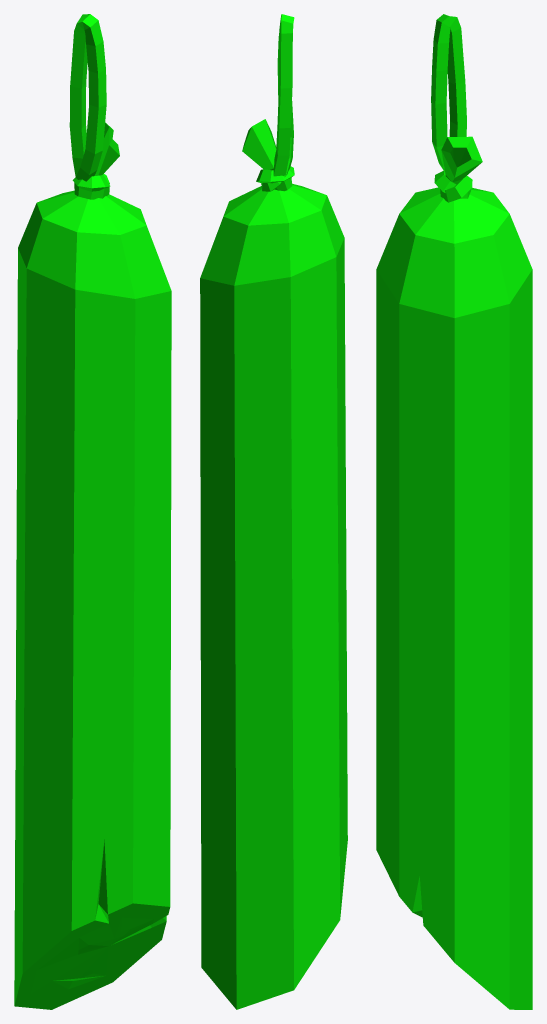
The model's file is SM_Salami_Hanging.fbx.
3 renders of one model, left to right at view 1: azimuth 30°, elevation 25°; view 2: azimuth 150°, elevation 25°; view 3: azimuth 270°, elevation 25°, orthographic. The views are drawn at different scales.
Parts seen in each view (by area): view 1: salami-hanging; view 2: salami-hanging; view 3: salami-hanging.
Boxes of the visible parts, <box> form: salami-hanging: <box>14,14,171,1009</box>; salami-hanging: <box>200,14,347,1009</box>; salami-hanging: <box>376,14,532,1009</box>.
Bounding box in the file's own units: 0.0979 × 0.6864 × 0.098.
